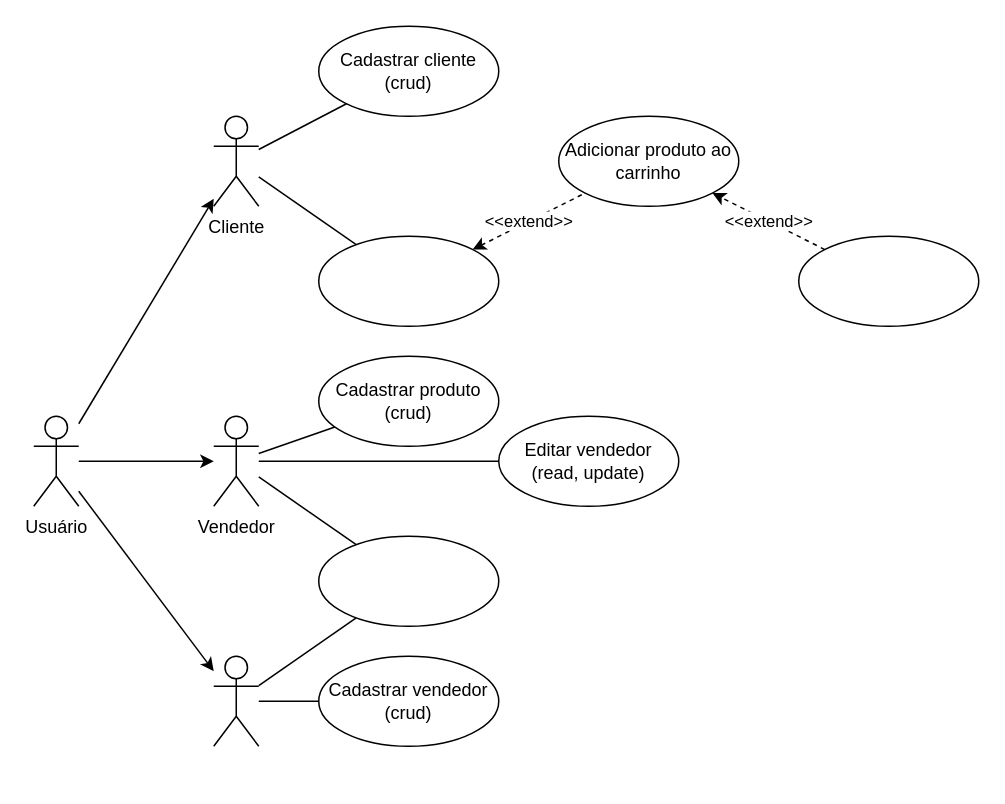
Some shapes in this 1005 by 804 pixel diagram are drawn without their labels. The centre of each missing label's shape, as x and y in pixels:
"Administrador" belongs at point 235,700.
"consultar produto (pesquisar + ver)" belongs at point 408,280.
"Finalizar pedido (criar venda)" belongs at point 888,280.
"Visualizar vendas" belongs at point 408,580.
